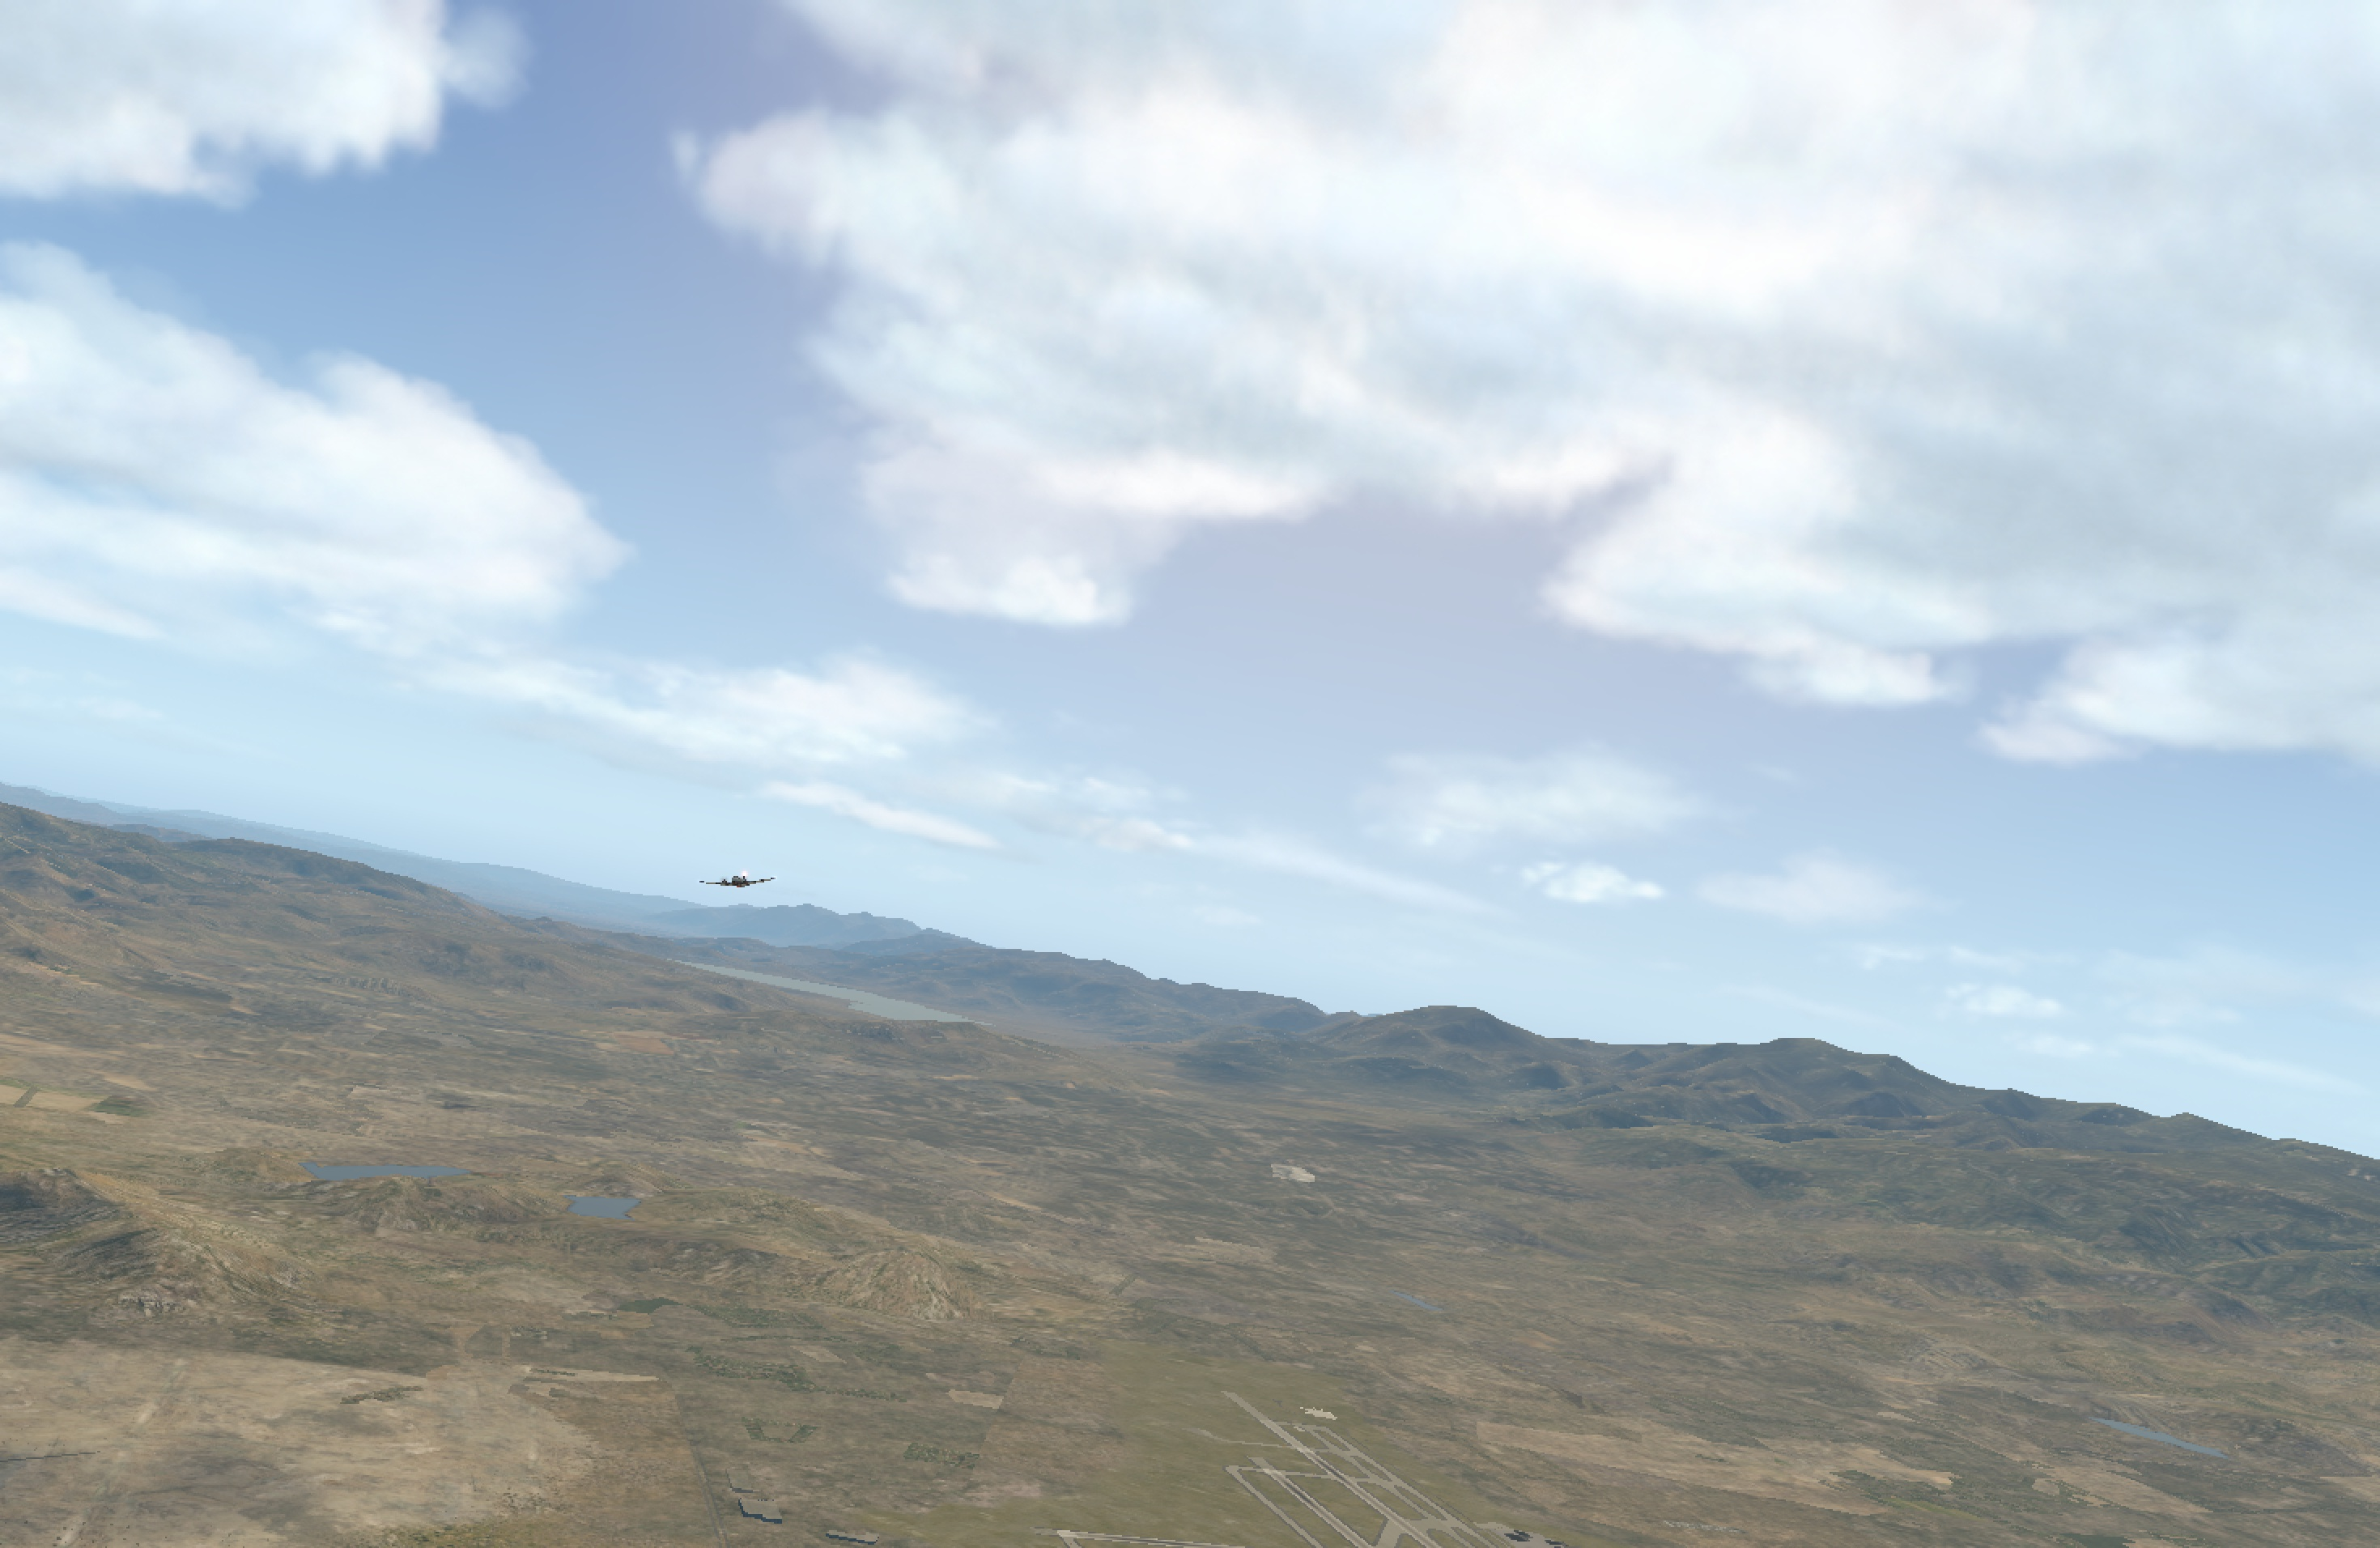aircraft: (699, 871, 775, 899)
